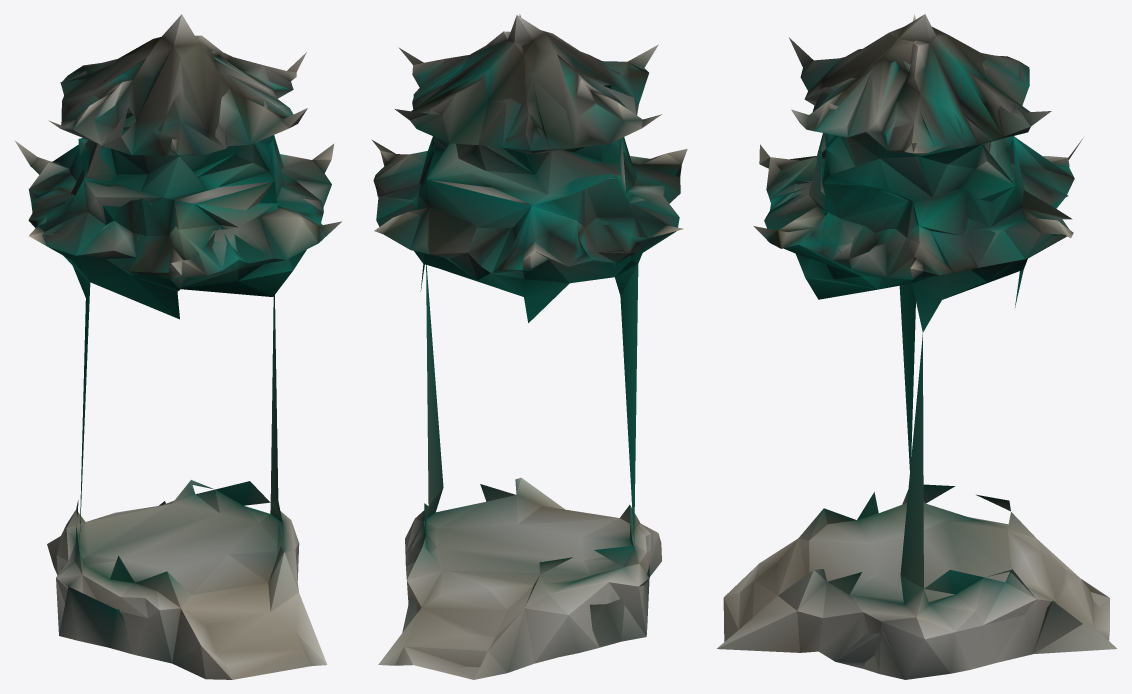
The model's file is bq_herb_pav.vc2.glb.
The picture shows the model from 3 angles, left to right: view 1: azimuth 30°, elevation 25°; view 2: azimuth 150°, elevation 25°; view 3: azimuth 270°, elevation 25°; orthographic projection. The views are drawn at different scales.
Parts seen in each view (by area): view 1: bq_herb_pav; view 2: bq_herb_pav; view 3: bq_herb_pav.
Boxes of the visible parts, box(x1,y1,x2,y2) form: bq_herb_pav: box(14, 14, 341, 679); bq_herb_pav: box(371, 14, 687, 679); bq_herb_pav: box(717, 14, 1116, 679).
Size of the model in its own units: 1.01 by 1.84 by 1.09.
